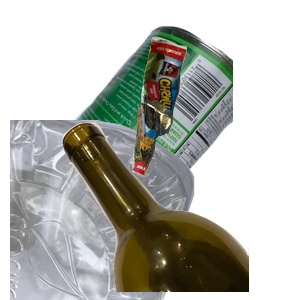glass: (60, 120, 300, 300)
metal: (60, 23, 300, 203)
plastic: (10, 120, 197, 300)
trash: (130, 34, 300, 203)
